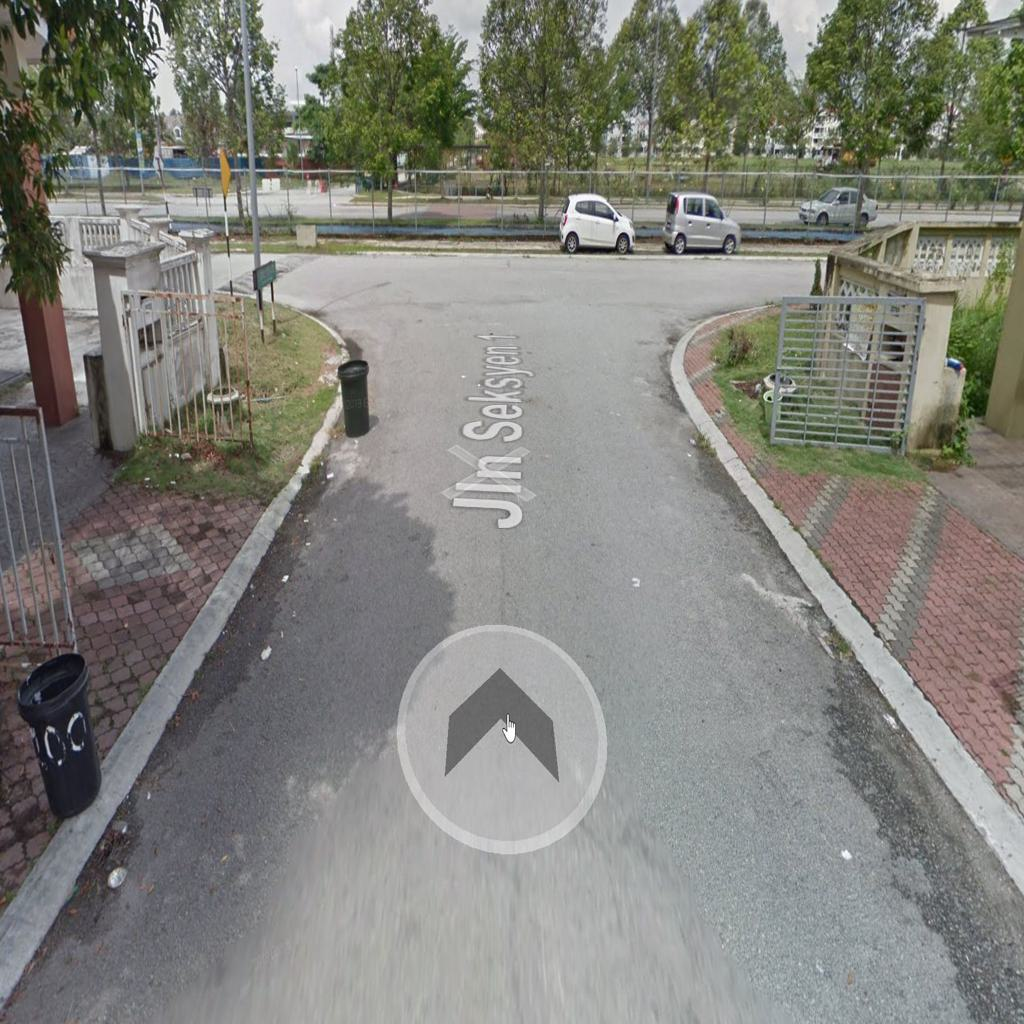Junction: (612, 219, 822, 390), (195, 203, 360, 362)
